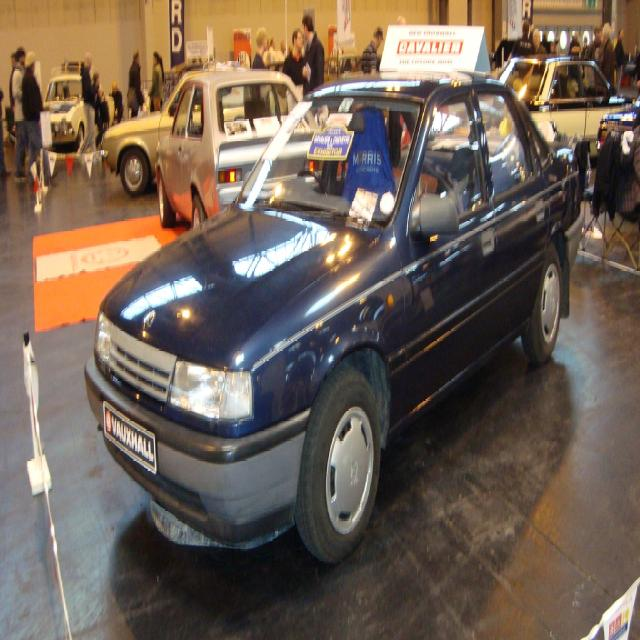car: (86, 67, 568, 552)
